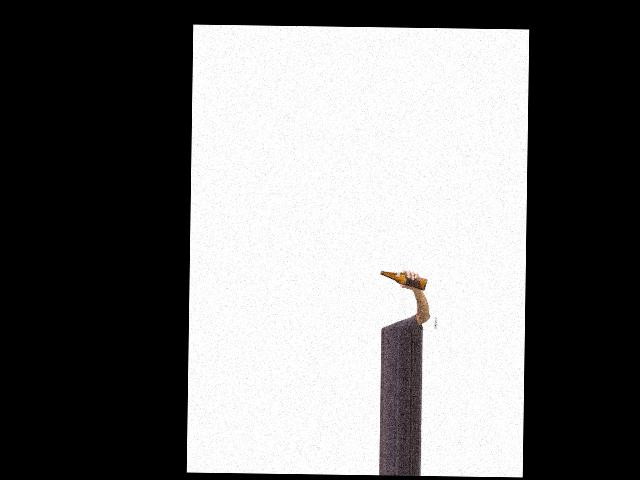beer: (380, 270, 427, 290)
